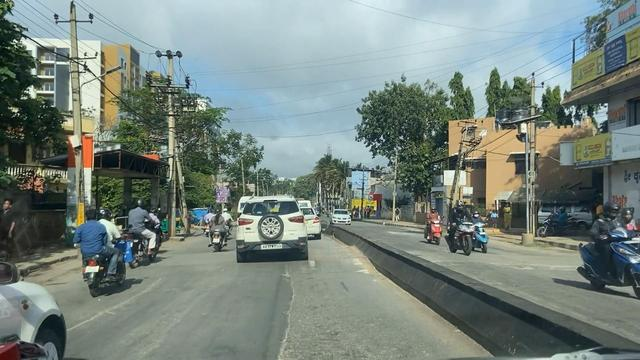LMV: (235, 196, 307, 257), (76, 211, 123, 287), (126, 204, 157, 262)
RoadDamages: (75, 275, 159, 334), (271, 263, 295, 360)
